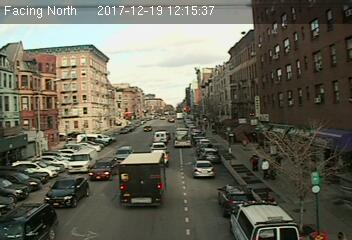car: (42, 175, 90, 207), (218, 183, 253, 214), (90, 157, 121, 182), (192, 159, 215, 179)
truck: (68, 148, 96, 173), (173, 128, 192, 149), (152, 131, 166, 141)
ups: (118, 152, 168, 208)
